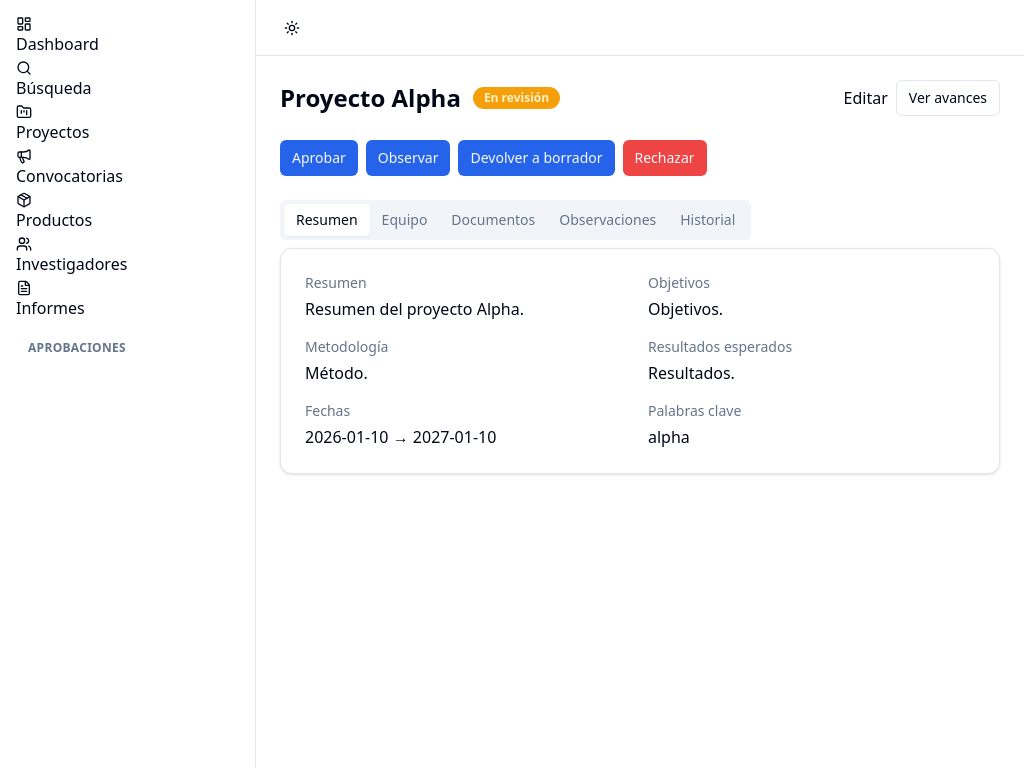
Scenario: ProjectDetailPage › switches between the five tabs
The width and height of the screenshot is (1024, 768).
Expected: the heading "Proyecto Alpha" is shown, x1=280 y1=82 x2=461 y2=114
Expected: the text "Resumen del proyecto Alpha." is shown, x1=305 y1=298 x2=524 y2=320
Note: Team tab lists members.
Click the tab "Equipo": (404, 220) x1=370 y1=204 x2=439 y2=236
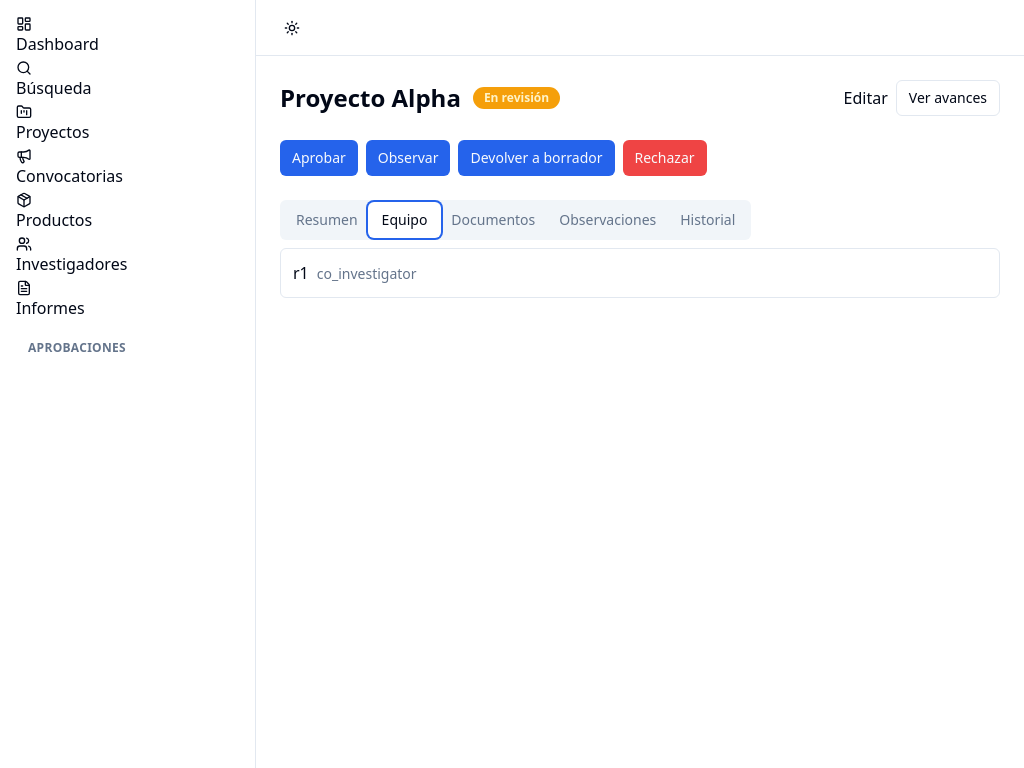
Expected: the text "co_investigator" is shown, x1=317 y1=264 x2=417 y2=283
Note: Documents tab lists documents.
Click the tab "Documentos": (493, 220) x1=439 y1=204 x2=547 y2=236
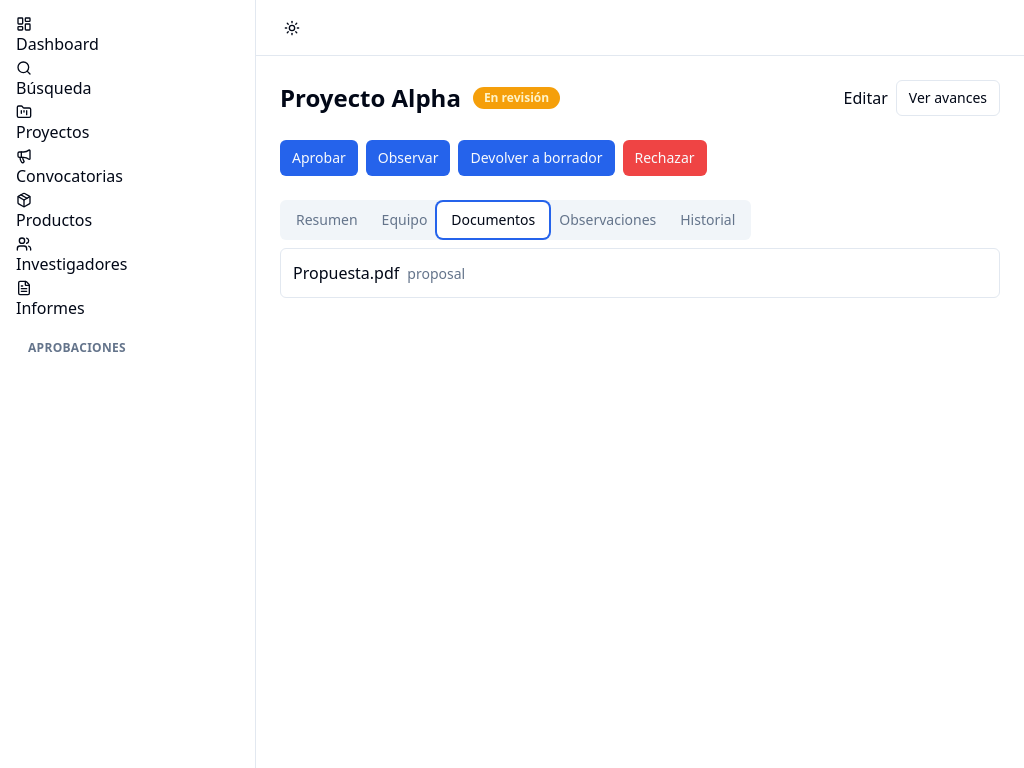
Expected: the link "Propuesta.pdf" is shown, x1=293 y1=262 x2=399 y2=284
Note: Observations tab.
Click the tab "Observaciones": (608, 220) x1=547 y1=204 x2=668 y2=236
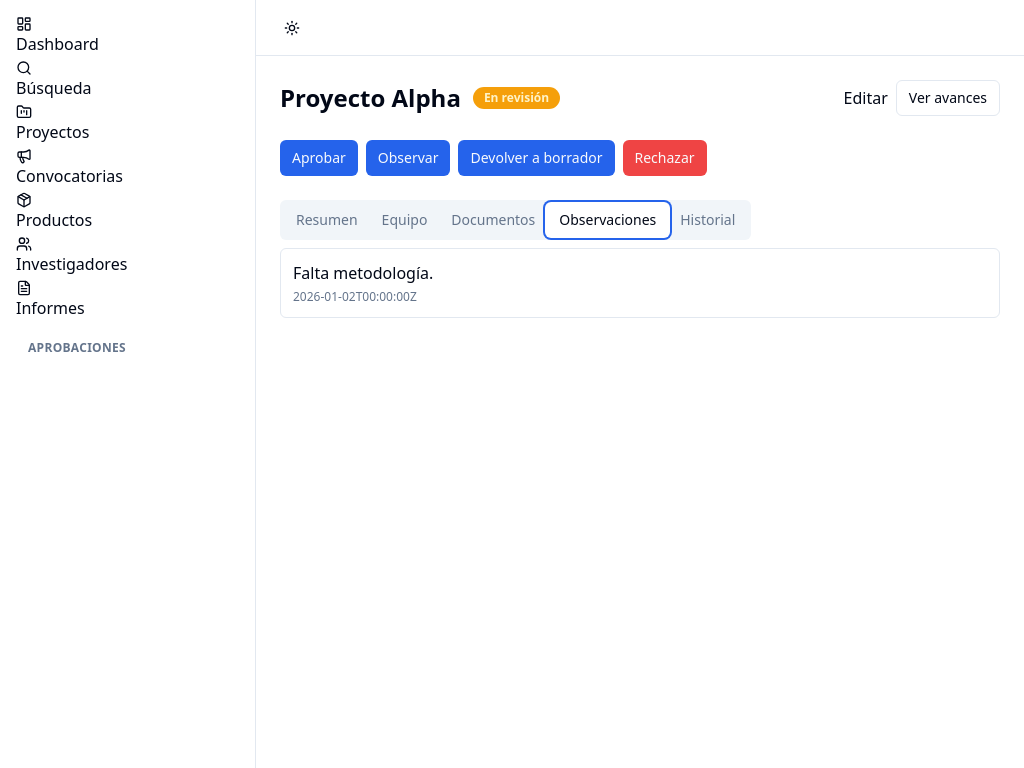
Expected: the text "Falta metodología." is shown, x1=293 y1=262 x2=433 y2=284
Note: State history tab.
Click the tab "Historial": (708, 220) x1=668 y1=204 x2=747 y2=236
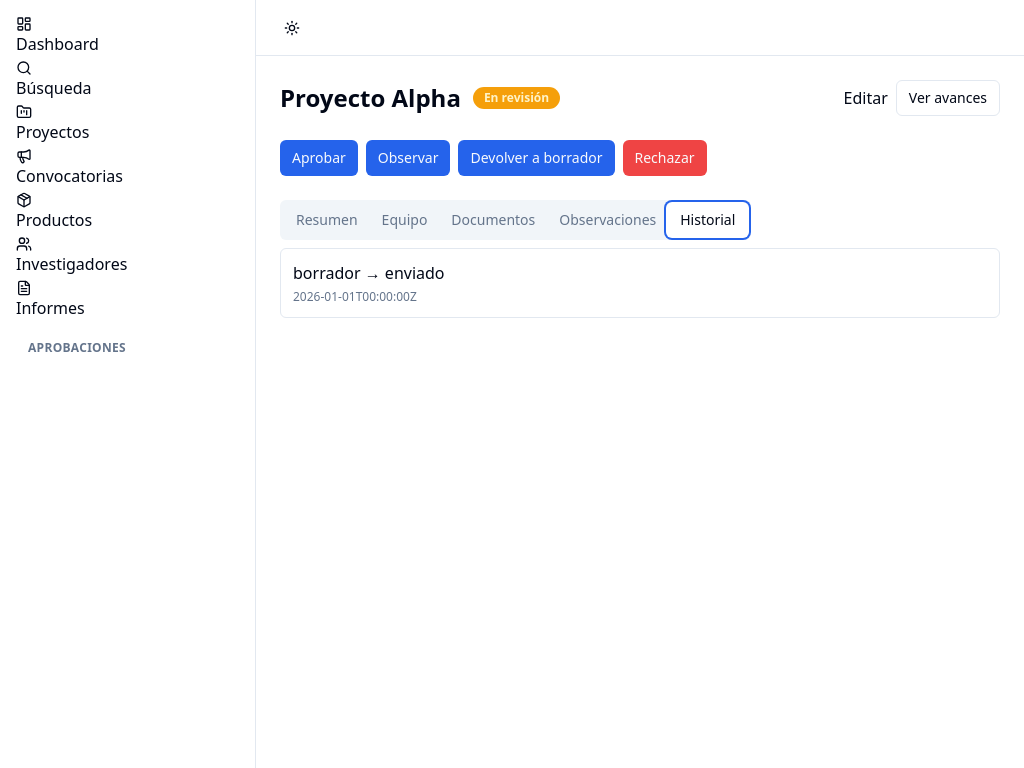
Expected: the text "borrador → enviado" is shown, x1=293 y1=262 x2=444 y2=284
